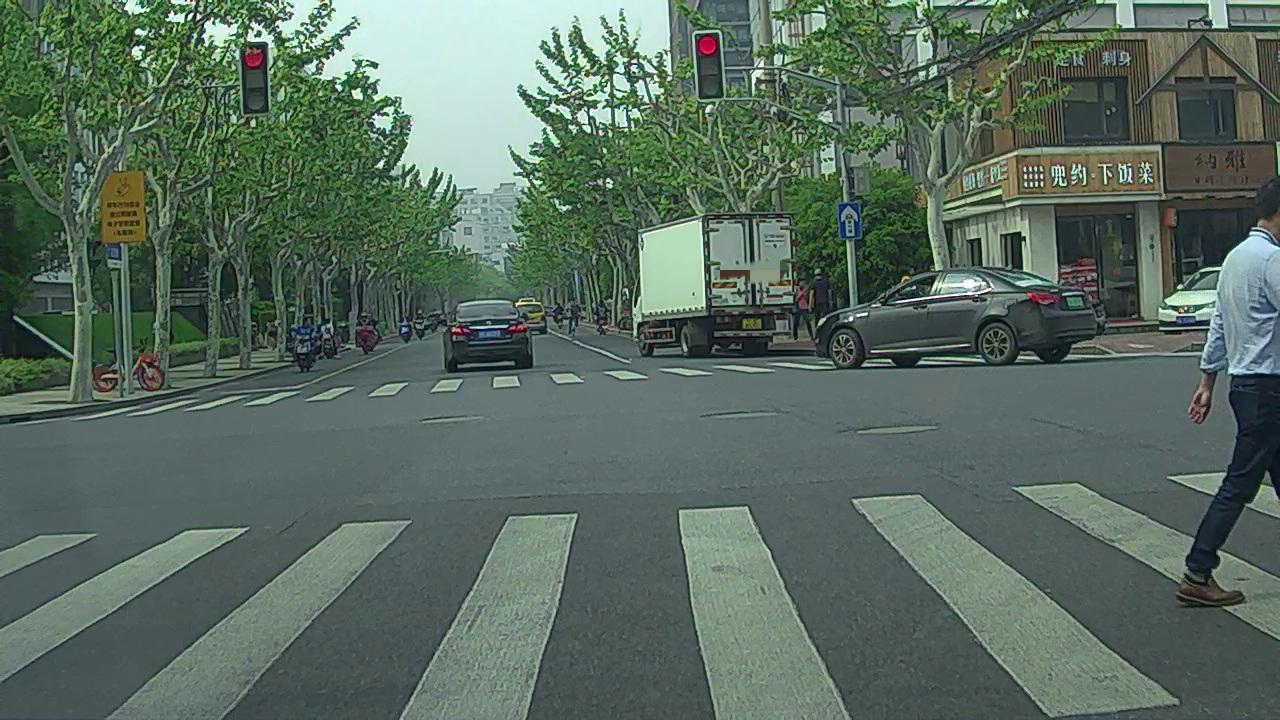traffic_light: (241, 42, 267, 115), (695, 35, 723, 99)
